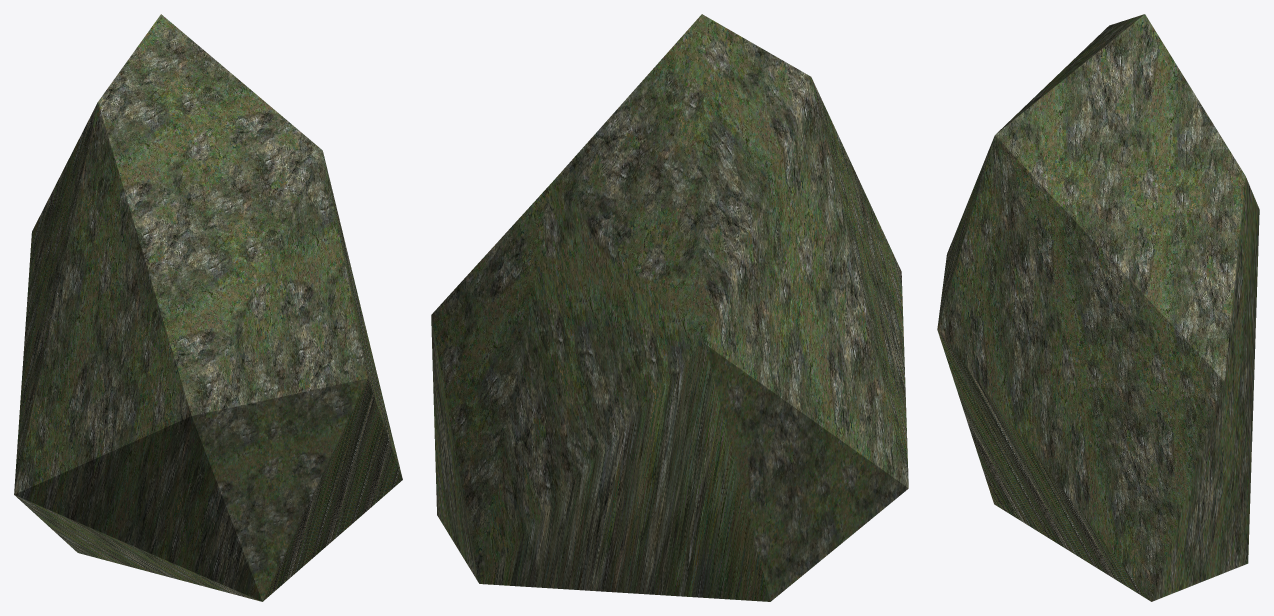
The model's file is mtns_rock_moss_a1_l3.fbx.
3 renders of one model, left to right at view 1: azimuth 30°, elevation 25°; view 2: azimuth 150°, elevation 25°; view 3: azimuth 270°, elevation 25°, orthographic. The views are drawn at different scales.
Visible parts, largest first — view 1: mesh_node; view 2: mesh_node; view 3: mesh_node.
Part boxes in pixels (<box>): mesh_node: <box>14,14,402,601</box>; mesh_node: <box>431,14,908,601</box>; mesh_node: <box>937,14,1259,601</box>.
Size of the model in its own units: 2.26 by 2.76 by 1.67.
